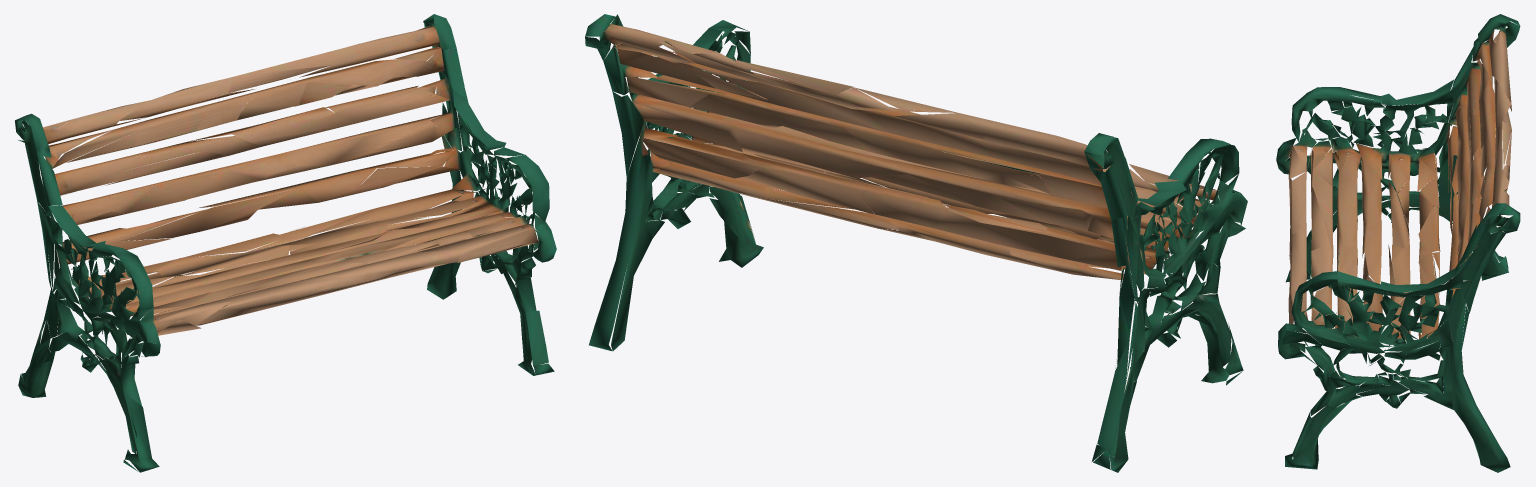
The model's file is cp_bench.glb.
3 views of the same model, side by side, from view 1: azimuth 30°, elevation 25°; view 2: azimuth 150°, elevation 25°; view 3: azimuth 270°, elevation 25° (orthographic). The views are drawn at different scales.
Parts seen in each view (by area): view 1: tripo_node_898a3326-af9d-4f30-8cda-f0e14c94b4b4; view 2: tripo_node_898a3326-af9d-4f30-8cda-f0e14c94b4b4; view 3: tripo_node_898a3326-af9d-4f30-8cda-f0e14c94b4b4.
Boxes of the visible parts, x1,y1,x2,y2 form: tripo_node_898a3326-af9d-4f30-8cda-f0e14c94b4b4: [15, 14, 556, 472]; tripo_node_898a3326-af9d-4f30-8cda-f0e14c94b4b4: [585, 14, 1247, 472]; tripo_node_898a3326-af9d-4f30-8cda-f0e14c94b4b4: [1276, 14, 1520, 472].
Size of the model in its own units: 0.9996 by 0.6183 by 0.5214.
Materials: 1 (1 with a texture image).
